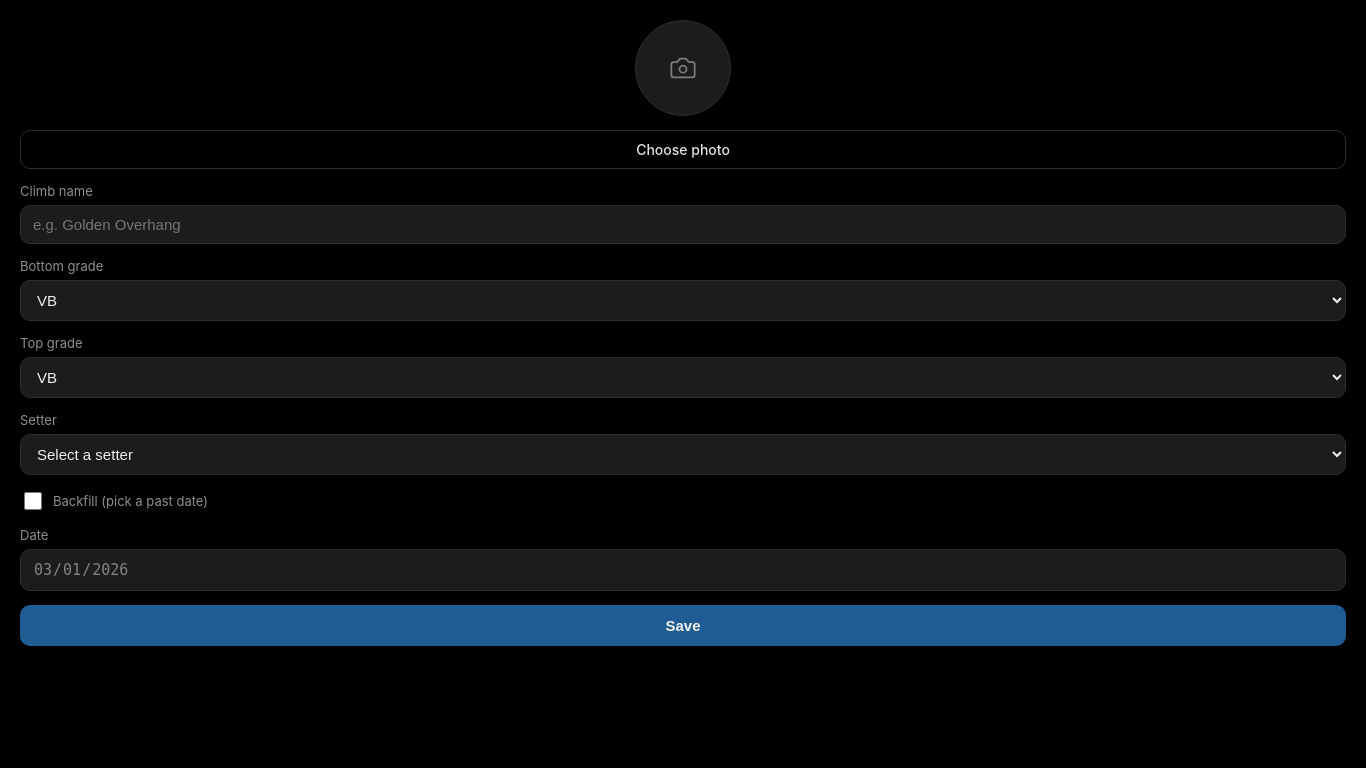
NewClimbForm › locks the Date field to resetDate unless Backfill is checked, then lets it be edited
The width and height of the screenshot is (1366, 768).
Check: the date field labelled "Date" is disabled, box [20, 549, 1346, 591]
Check: the date field labelled "Date" holds "2026-03-01", box [20, 549, 1346, 591]
Click the checkbox labelled "Backfill (pick a past date)". click: click(33, 501)
box: [24, 492, 42, 510]
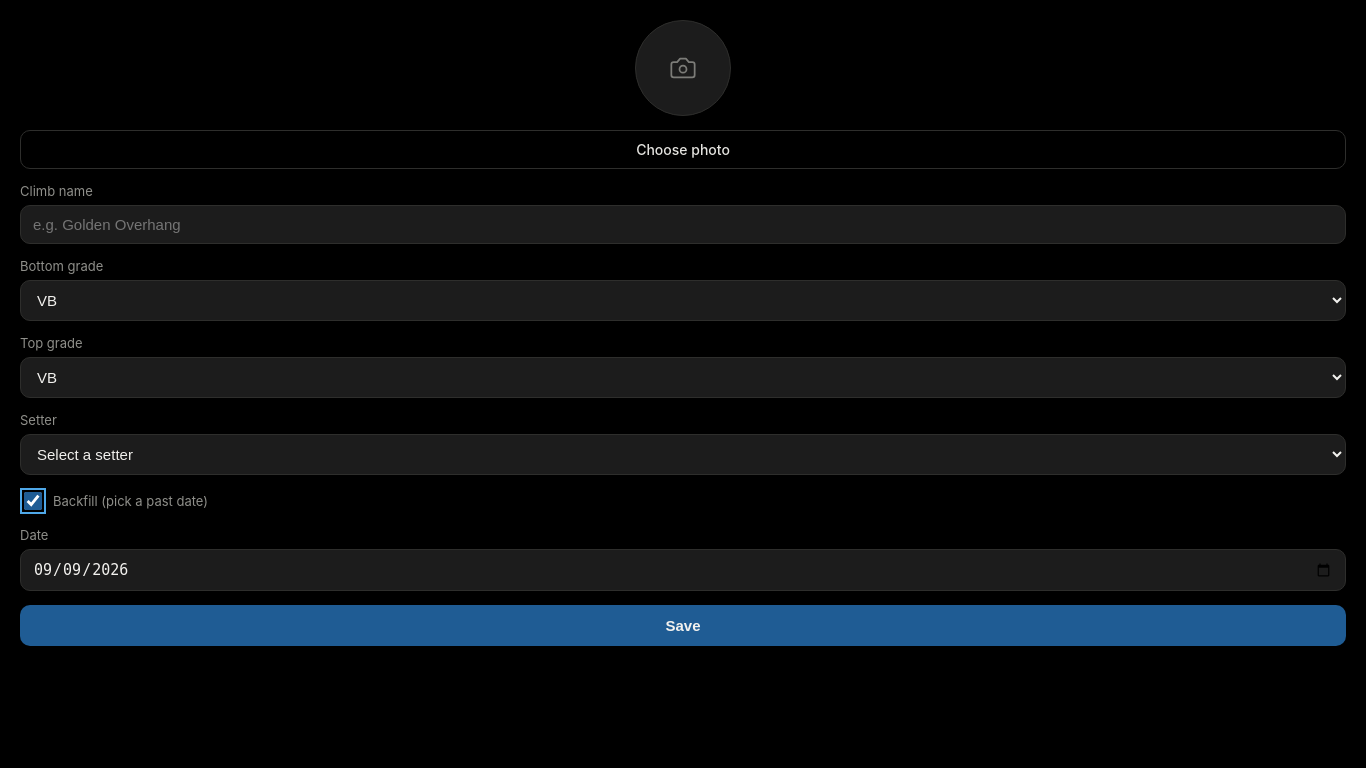
Check: the date field labelled "Date" is enabled, box [20, 549, 1346, 591]
